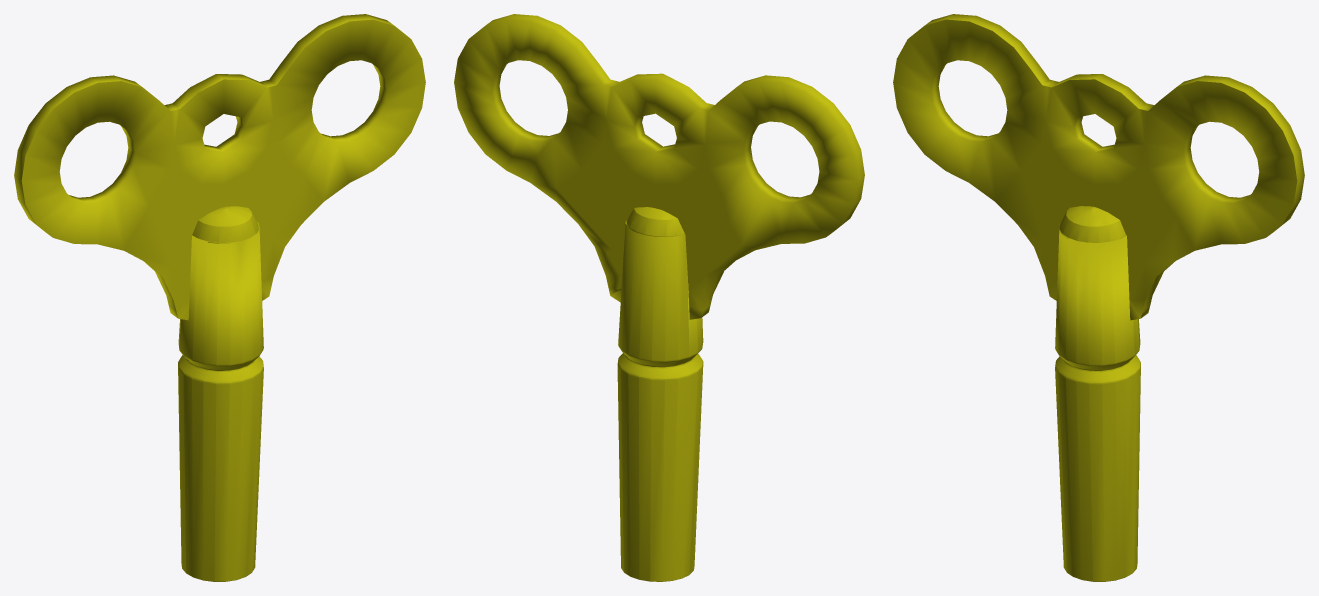
The model's file is outfit_windup_key.glb.
3 views of the same model, side by side, from view 1: azimuth 30°, elevation 25°; view 2: azimuth 150°, elevation 25°; view 3: azimuth 330°, elevation 25° (orthographic).
Visible parts, largest first — view 1: outfit_windup_key; view 2: outfit_windup_key; view 3: outfit_windup_key.
Boxes of the visible parts, box(x1,y1,x2,y2) form: outfit_windup_key: box(14, 14, 425, 581); outfit_windup_key: box(454, 14, 864, 581); outfit_windup_key: box(893, 14, 1304, 581).
Size of the model in its own units: 0.2447 by 0.3 by 0.0454.
